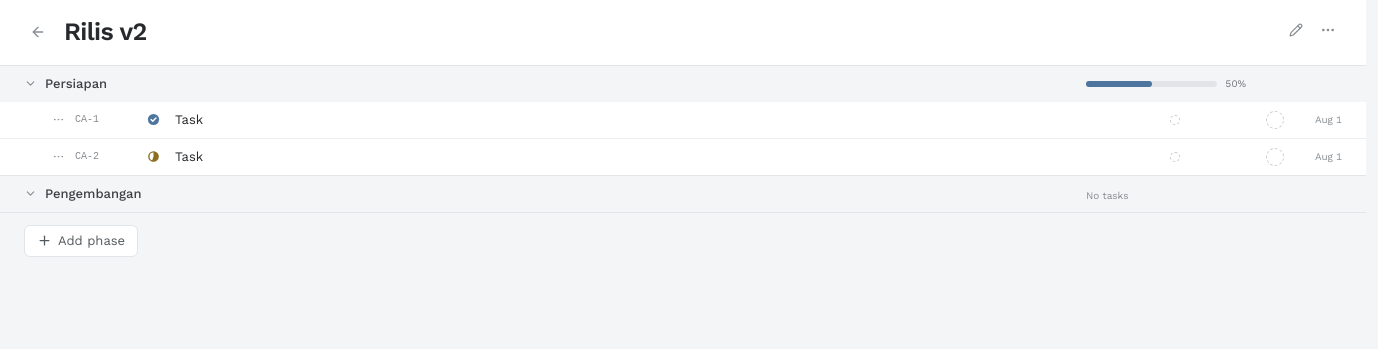
Scenario: TrackerProjectPage › changes status inline from the row glyph without navigating
This screenshot has width=1378, height=349.
Expected: the button with test id "tracker-row-CA-2" is shown, 28,138 -> 1366,174
Click the button named "In Progress, CA-2": coordinates (153, 156) 141,144 -> 165,168
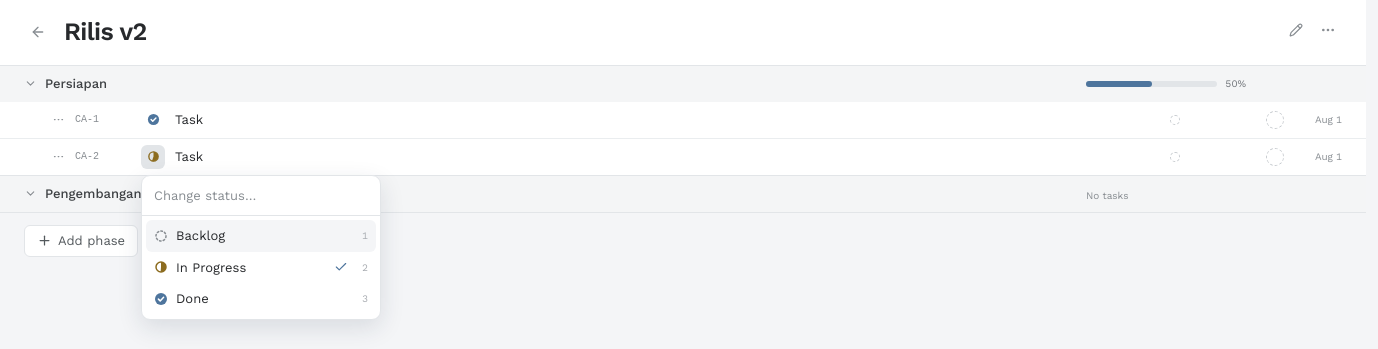
Click the option "Backlog 1": coordinates (261, 236) 146,220 -> 376,252
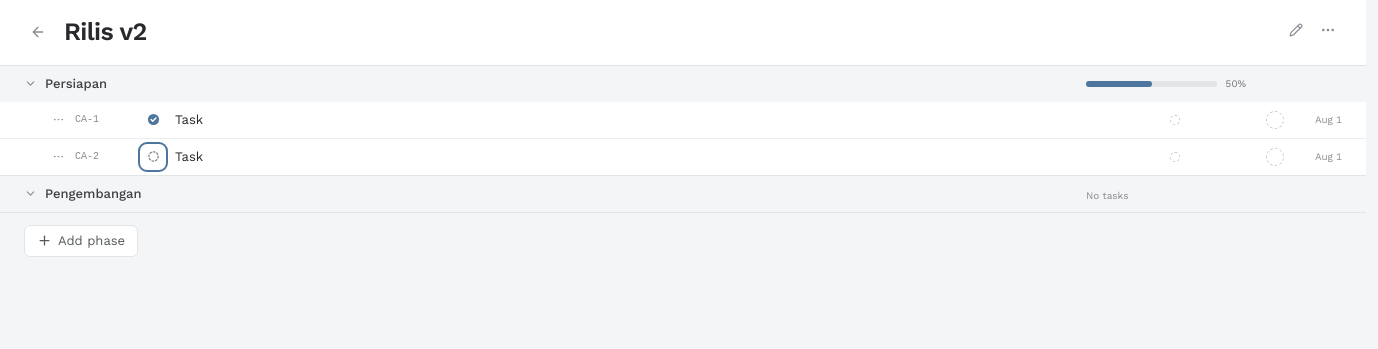
Expected: the button named "Backlog, CA-2" is shown, 141,144 -> 165,168
